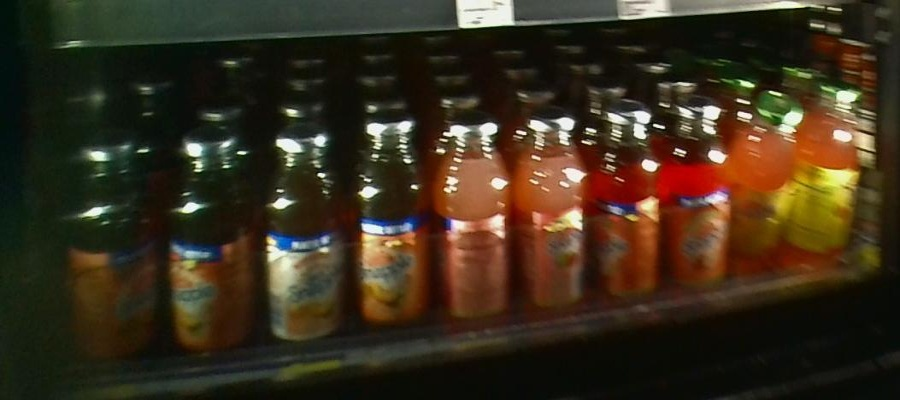bottle: (56, 128, 155, 383), (156, 123, 252, 368), (257, 124, 344, 358), (432, 109, 512, 329), (348, 111, 425, 329), (514, 104, 588, 329), (593, 94, 662, 319), (663, 91, 731, 307), (736, 88, 803, 298), (807, 74, 864, 296)
